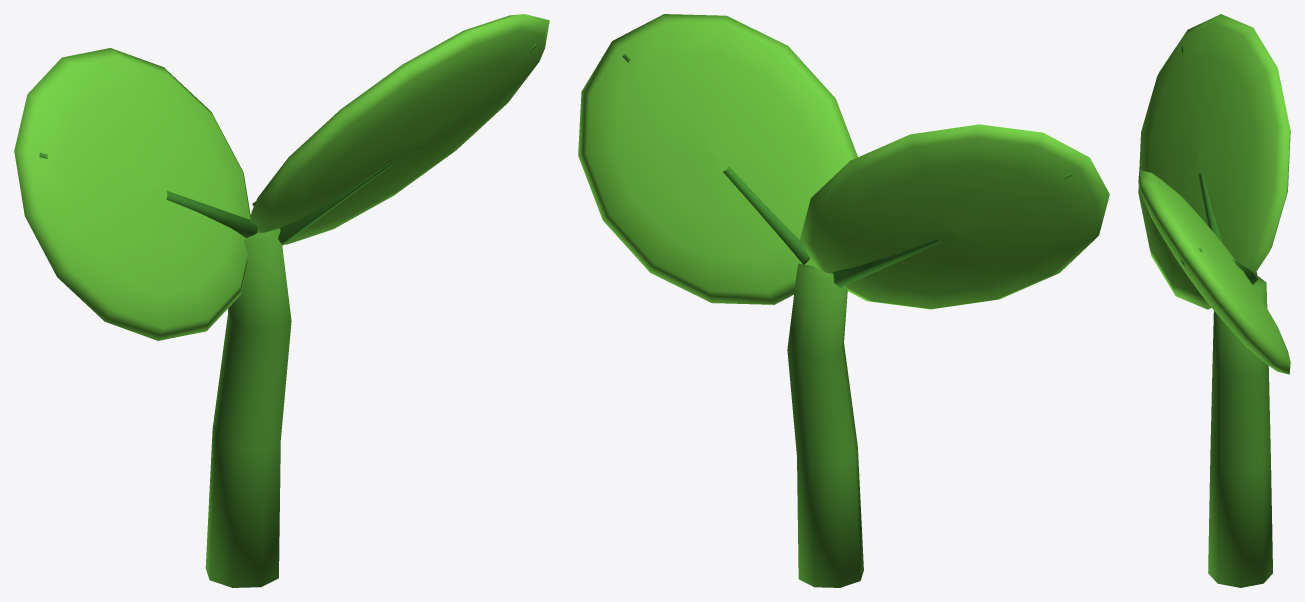
File: head_sprout.glb
3 views of the same model, side by side, from view 1: azimuth 30°, elevation 25°; view 2: azimuth 150°, elevation 25°; view 3: azimuth 270°, elevation 25° (orthographic). The views are drawn at different scales.
Visible parts, largest first — view 1: head_sprout_q; view 2: head_sprout_q; view 3: head_sprout_q.
Part boxes in pixels (bbox=[...]): head_sprout_q: bbox=[14, 14, 549, 587]; head_sprout_q: bbox=[578, 14, 1109, 587]; head_sprout_q: bbox=[1138, 14, 1290, 587].
Size of the model in its own units: 1.27 by 1.21 by 0.3518.
